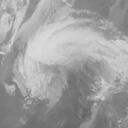cyclone: (12, 17, 116, 102)
